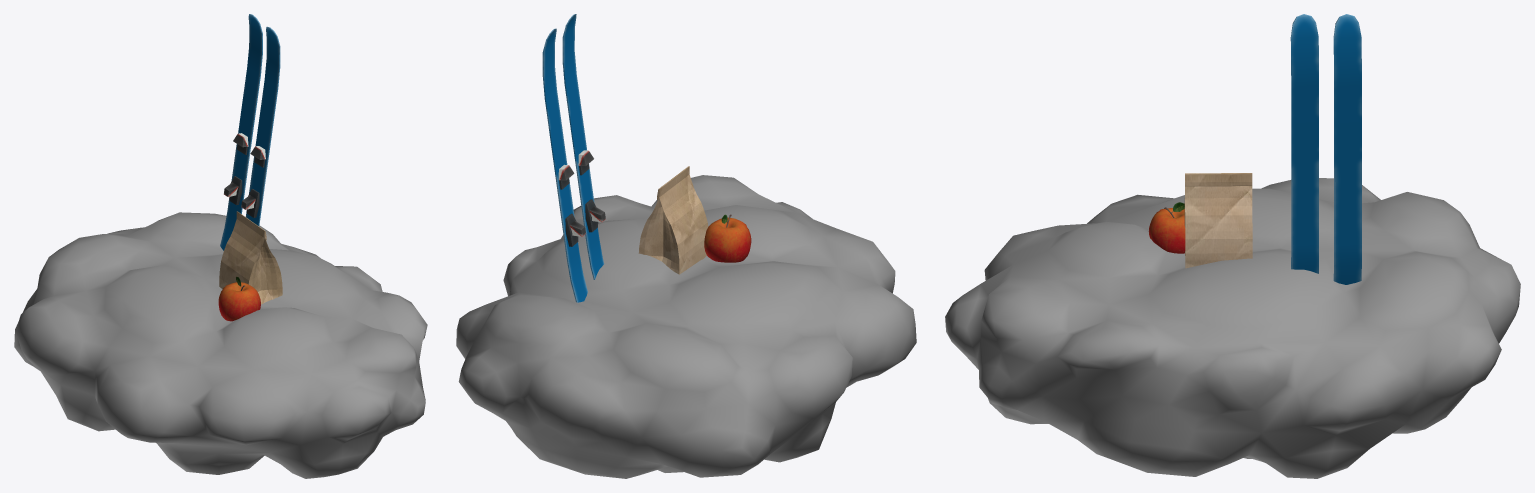
File: skis-apple.glb
3 renders of one model, left to right at view 1: azimuth 30°, elevation 25°; view 2: azimuth 150°, elevation 25°; view 3: azimuth 270°, elevation 25°, orthographic. The views are drawn at different scales.
Parts seen in each view (by area): view 1: Object_3, Cube_0, ski1, ski1_initialShadingGroup1_0.001, Cube.001; view 2: Object_3, Cube_0, ski1, ski1_initialShadingGroup1_0.001, Cube.001; view 3: Object_3, ski1, ski1_initialShadingGroup1_0.001, Cube_0, Cube.001.
Boxes of the visible parts, x1,y1,x2,y2 form: Object_3: [14, 212, 427, 478]; Cube_0: [219, 211, 282, 304]; ski1: [220, 14, 262, 250]; ski1_initialShadingGroup1_0.001: [241, 26, 280, 226]; Cube.001: [218, 276, 260, 321]; Object_3: [456, 175, 916, 478]; Cube_0: [638, 166, 708, 274]; ski1: [542, 28, 587, 302]; ski1_initialShadingGroup1_0.001: [562, 14, 605, 279]; Cube.001: [704, 214, 751, 262]; Object_3: [945, 178, 1520, 478]; ski1: [1333, 14, 1361, 284]; ski1_initialShadingGroup1_0.001: [1290, 14, 1318, 273]; Cube_0: [1184, 173, 1252, 268]; Cube.001: [1148, 202, 1185, 253].
Size of the model in its own units: 5.57 by 6.39 by 7.02.
5 materials, 4 textured.
